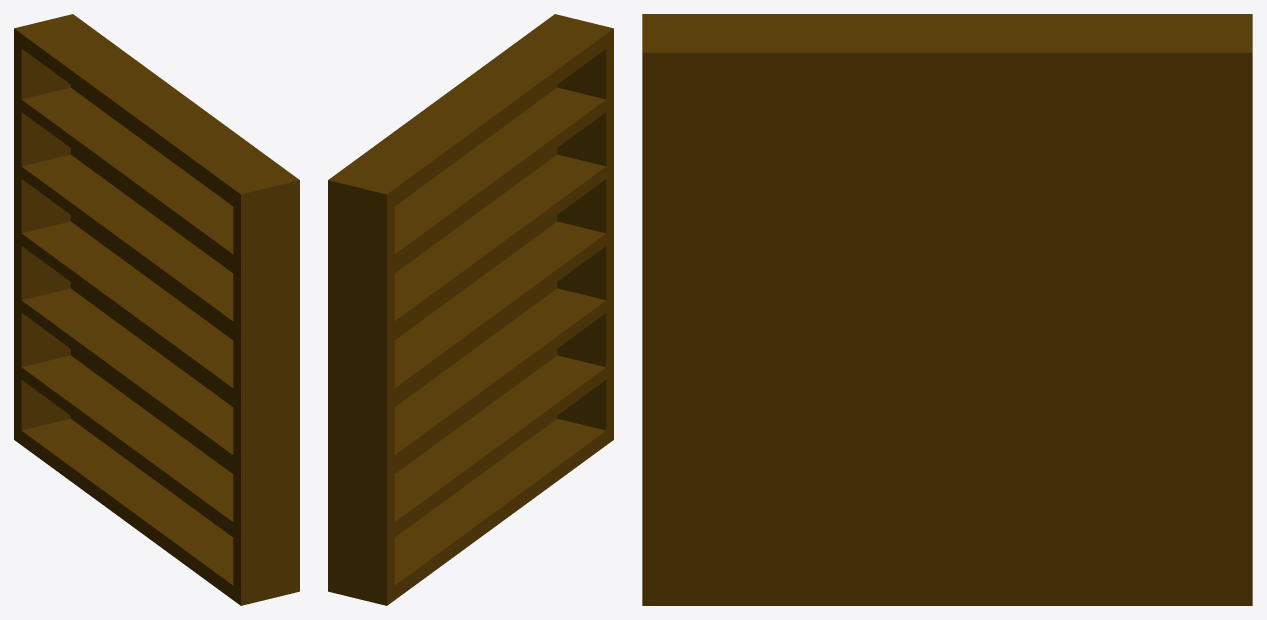
Rendered from bookCaseXL_empty.fbx.
3 views of the same model, side by side, from view 1: azimuth 30°, elevation 25°; view 2: azimuth 150°, elevation 25°; view 3: azimuth 270°, elevation 25° (orthographic). The views are drawn at different scales.
Visible parts, largest first — view 1: bookCase_XL; view 2: bookCase_XL; view 3: bookCase_XL.
Boxes of the visible parts, x1,y1,x2,y2 form: bookCase_XL: [14, 14, 299, 605]; bookCase_XL: [328, 14, 613, 605]; bookCase_XL: [642, 14, 1252, 605].
Bounding box in the file's own units: 30 × 200 × 200.
